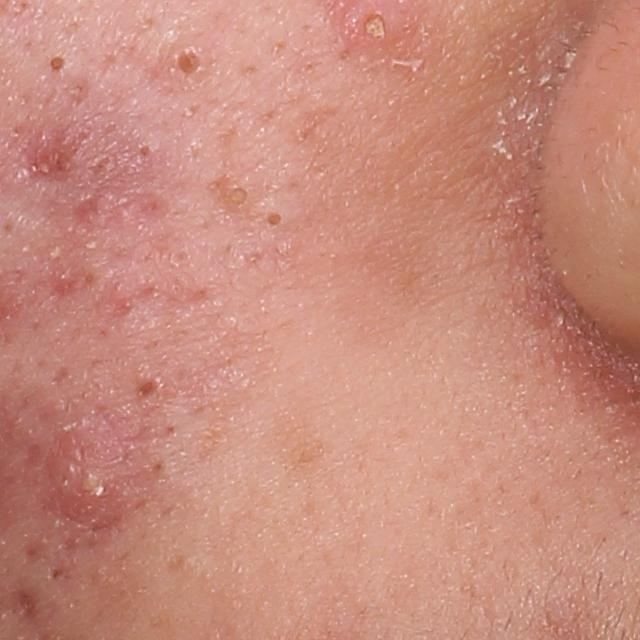comedo: (163, 45, 203, 85), (132, 365, 167, 403), (217, 183, 255, 215), (41, 49, 73, 83), (262, 206, 291, 239), (46, 558, 72, 587), (136, 140, 153, 157)
